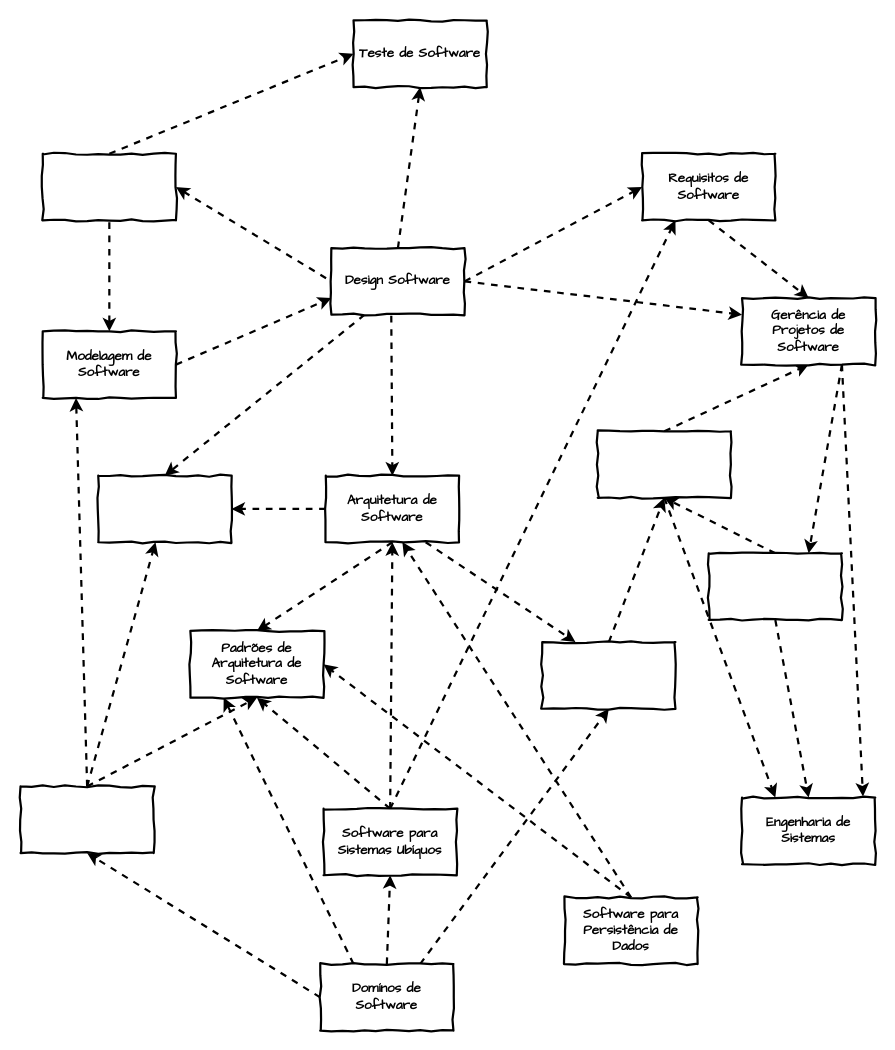
Image size: 895x1050. Some labels were removed from this diagram. The shapes that lost their labels are listed below. From the top down, each one's box as (x1, y1, x2, y2) in pixels, then its label:
(41, 152, 176, 221): Contrução Software
(596, 430, 731, 498): Processos de Software
(97, 474, 232, 543): Software Concorrente e Distribuído
(707, 552, 842, 620): Governança e Gestão se Serviços de Software
(541, 640, 676, 709): Processos de Qualidade de Software
(19, 785, 154, 854): Experiência de Usuário de Software
